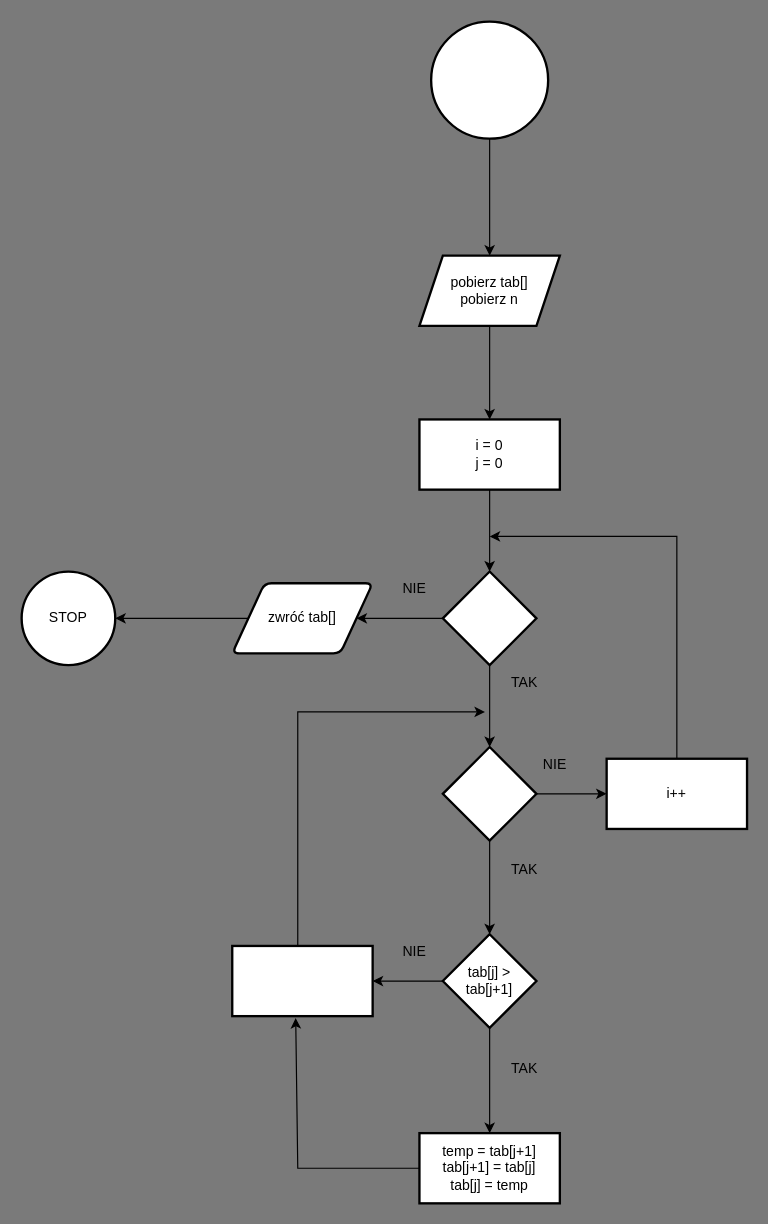
Image size: 768x1224. Some labels were removed from this diagram. The centre of each missing label's shape, as x and y in pixels:
"i < n - 1" goes at point (489, 618).
"j < n - i -1" goes at point (489, 793).
"j++" goes at point (301, 980).
"START" goes at point (489, 79).
